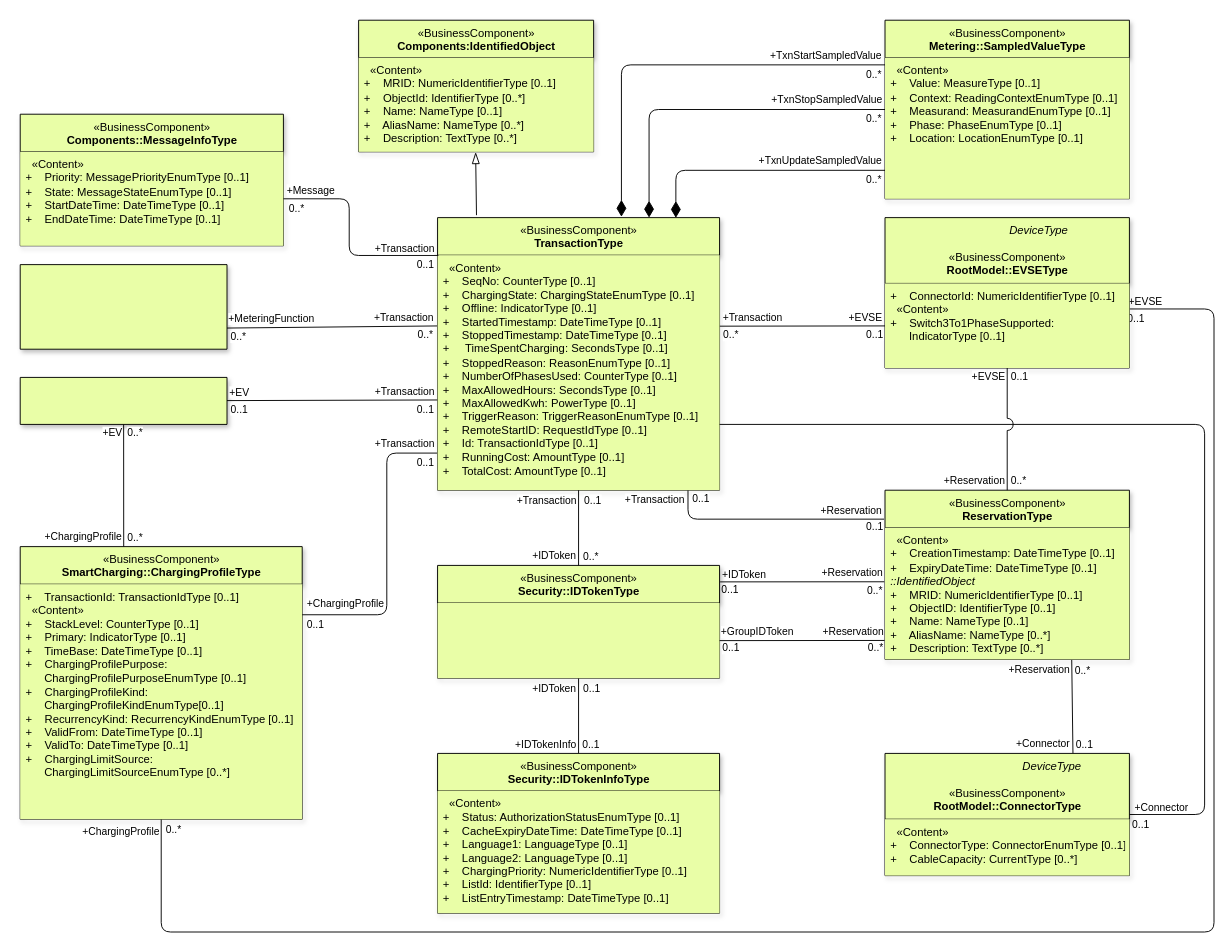
The diagram is 1231 pixels wide and 949 high, and some of its shapes have lost their labels. Here are the shapes that lost their labels. From the top down, the centre of each, then its label:
At point (124, 308): "DeviceFunctionType « BusinessComponent » Metering::MeteringFunctionType".
At point (124, 402): "« BusinessComponent » RootModel::EVType".
At point (578, 640): "+ IdToken: TokenType [0..1] + Type: IDTokenEnumType [0..1]".
